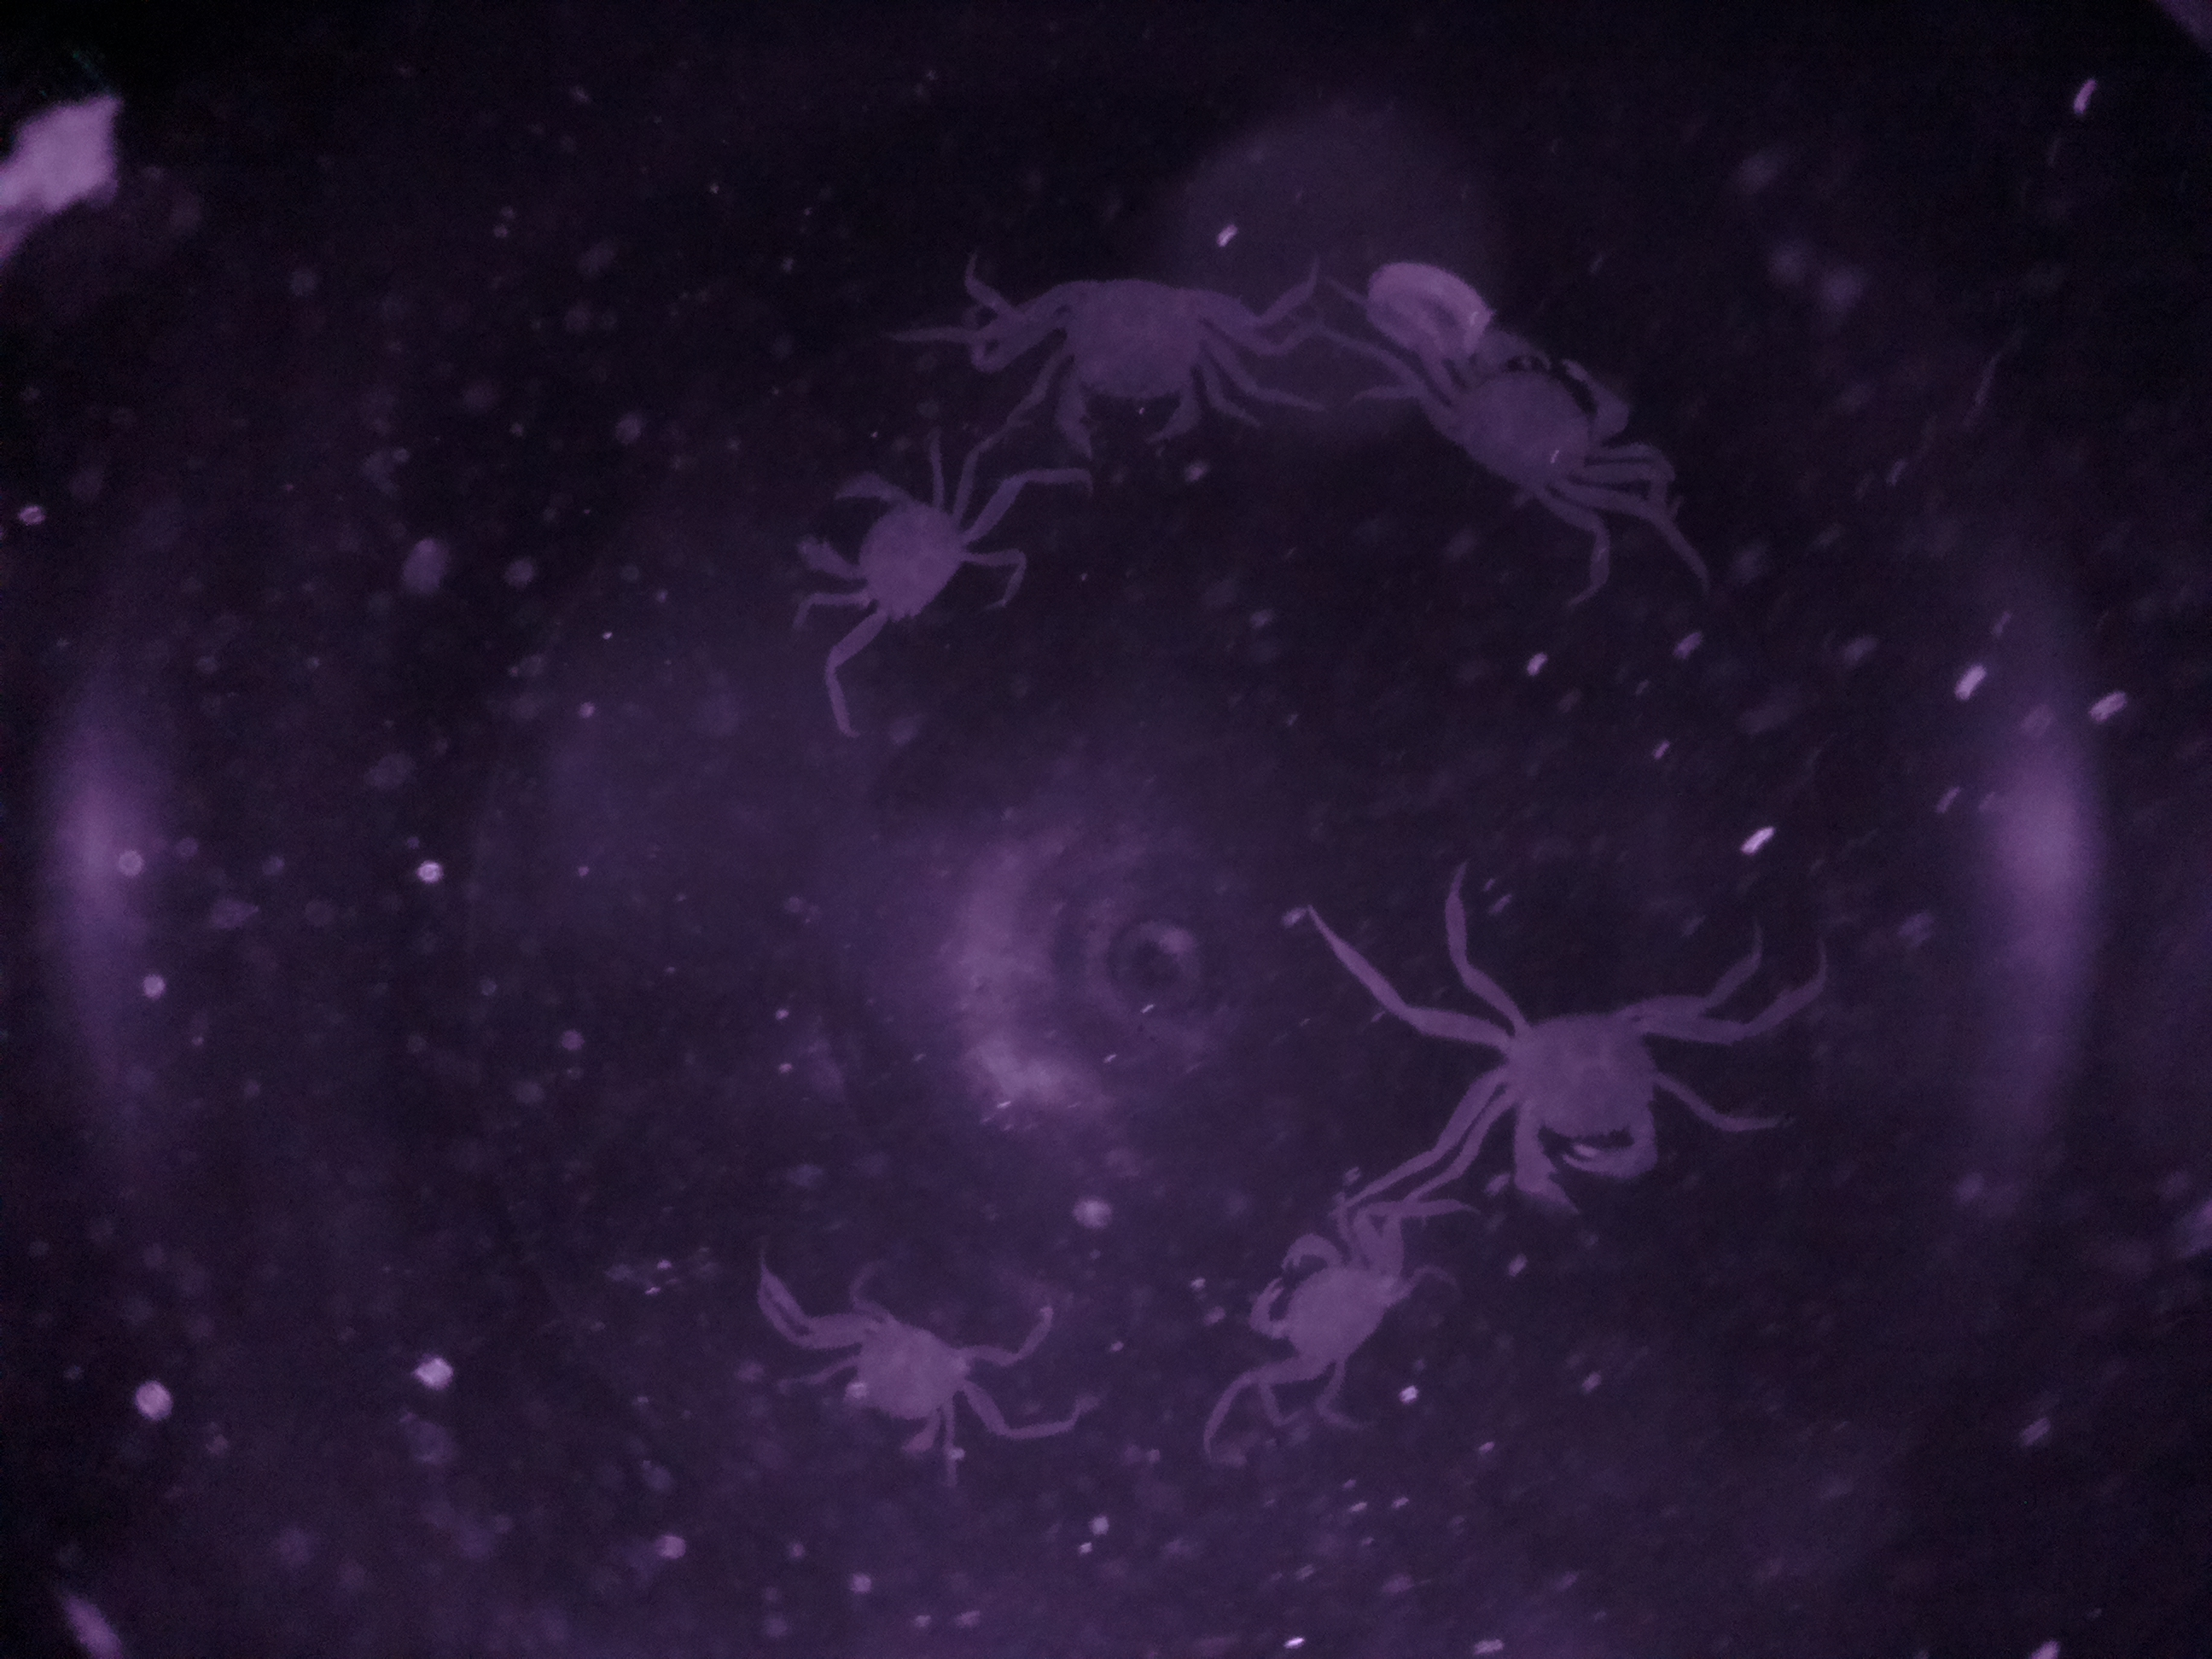Crab: (1392, 978, 1717, 1208), (991, 254, 1294, 472), (1392, 298, 1651, 537), (765, 462, 1033, 662), (792, 1258, 1022, 1488), (1228, 1215, 1440, 1406)
